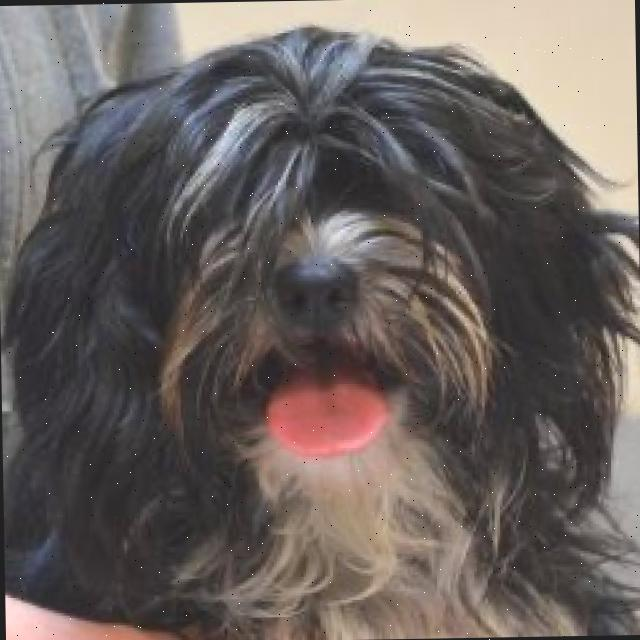shih_tzu_dog: (0, 13, 636, 549)
